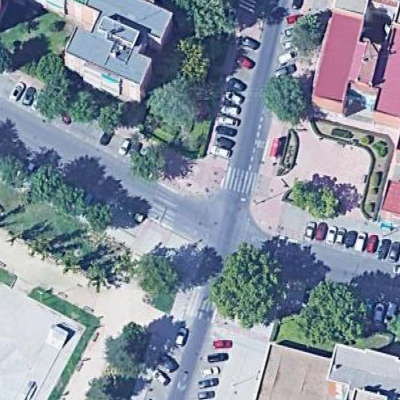tree: (211, 238, 282, 330), (302, 273, 368, 347), (147, 76, 202, 137), (288, 170, 342, 223), (263, 72, 310, 130), (136, 249, 184, 299), (180, 35, 218, 87), (128, 142, 171, 187), (102, 329, 148, 371), (186, 2, 238, 38), (290, 11, 330, 57), (32, 84, 75, 118), (28, 162, 58, 207), (34, 52, 72, 87), (84, 198, 121, 233), (70, 84, 104, 122), (1, 151, 30, 193), (61, 178, 87, 219), (98, 101, 129, 135)
